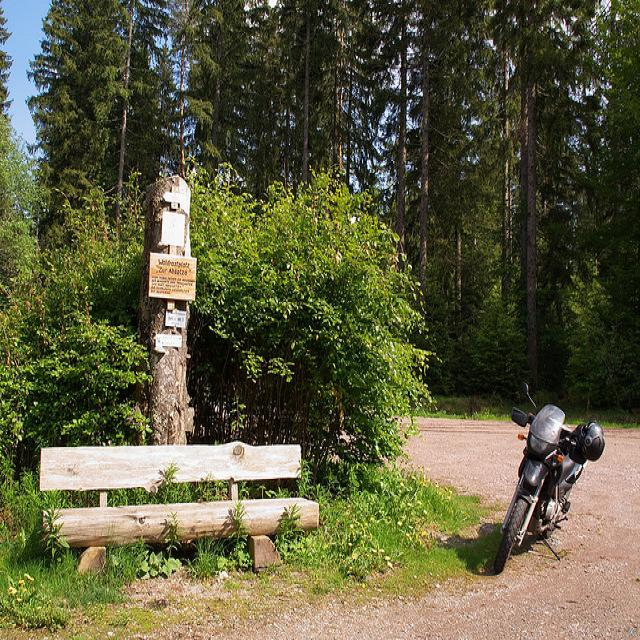motor: (495, 390, 600, 579)
